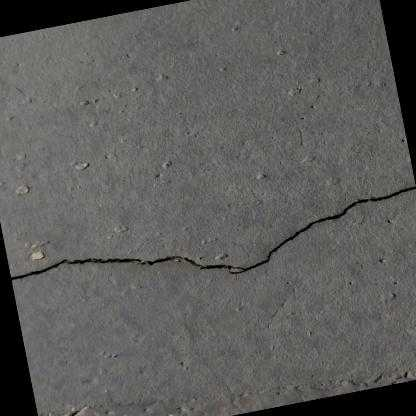crack: (10, 186, 416, 280)
